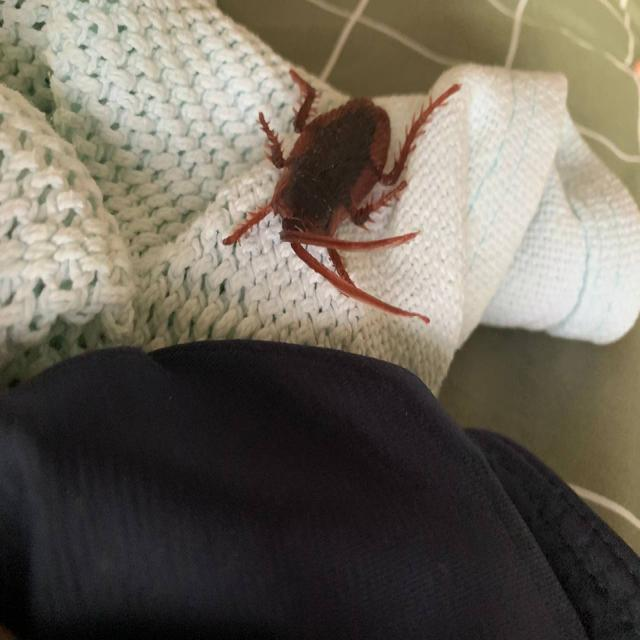Cockroach: (218, 56, 460, 331)
